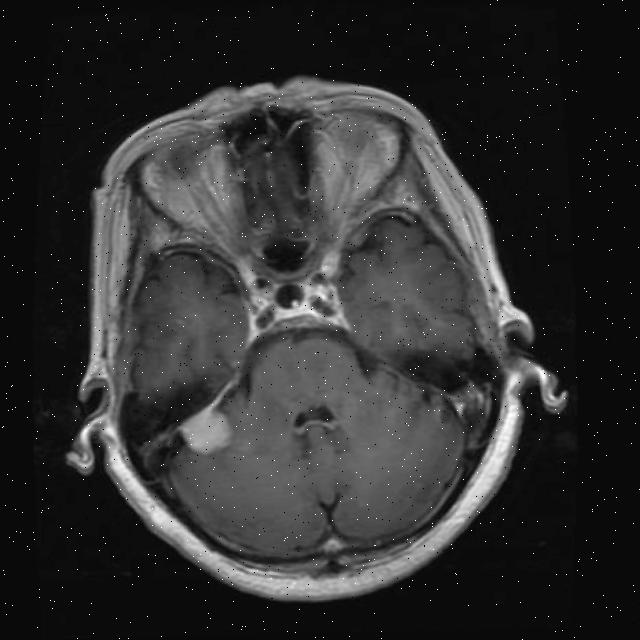Meningioma: (178, 405, 236, 459)
